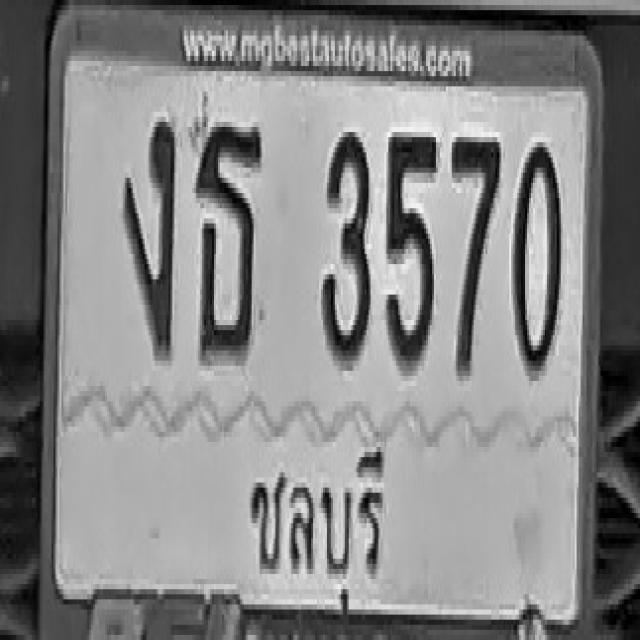0: (512, 137, 560, 376)
16NgorNgu: (123, 117, 174, 355)
3: (321, 127, 371, 366)
33ThorThong: (195, 122, 263, 361)
5: (385, 132, 437, 371)
7: (451, 132, 500, 376)
Chonburi: (232, 429, 394, 622)
